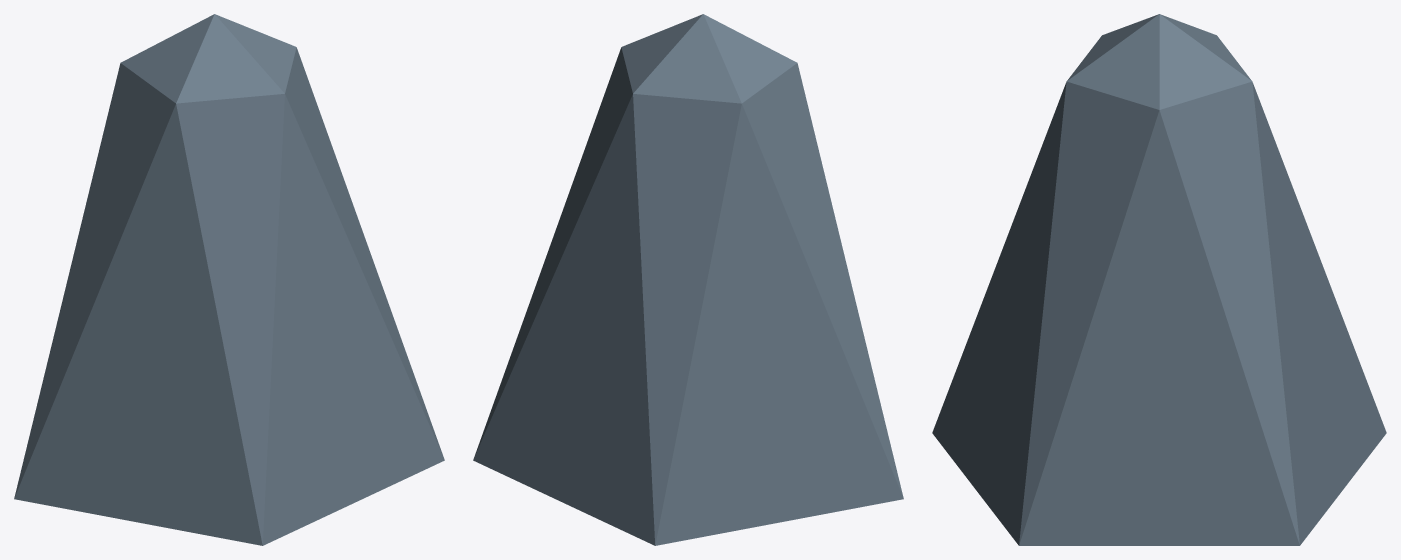
Rendered from kamien.fbx.
The picture shows the model from 3 angles, left to right: view 1: azimuth 30°, elevation 25°; view 2: azimuth 150°, elevation 25°; view 3: azimuth 270°, elevation 25°; orthographic projection. The views are drawn at different scales.
Parts seen in each view (by area): view 1: stone; view 2: stone; view 3: stone.
Part boxes in pixels (<box>): stone: <box>14,14,444,545</box>; stone: <box>473,14,903,545</box>; stone: <box>932,14,1386,545</box>.
Size of the model in its own units: 162 by 186 by 170.
